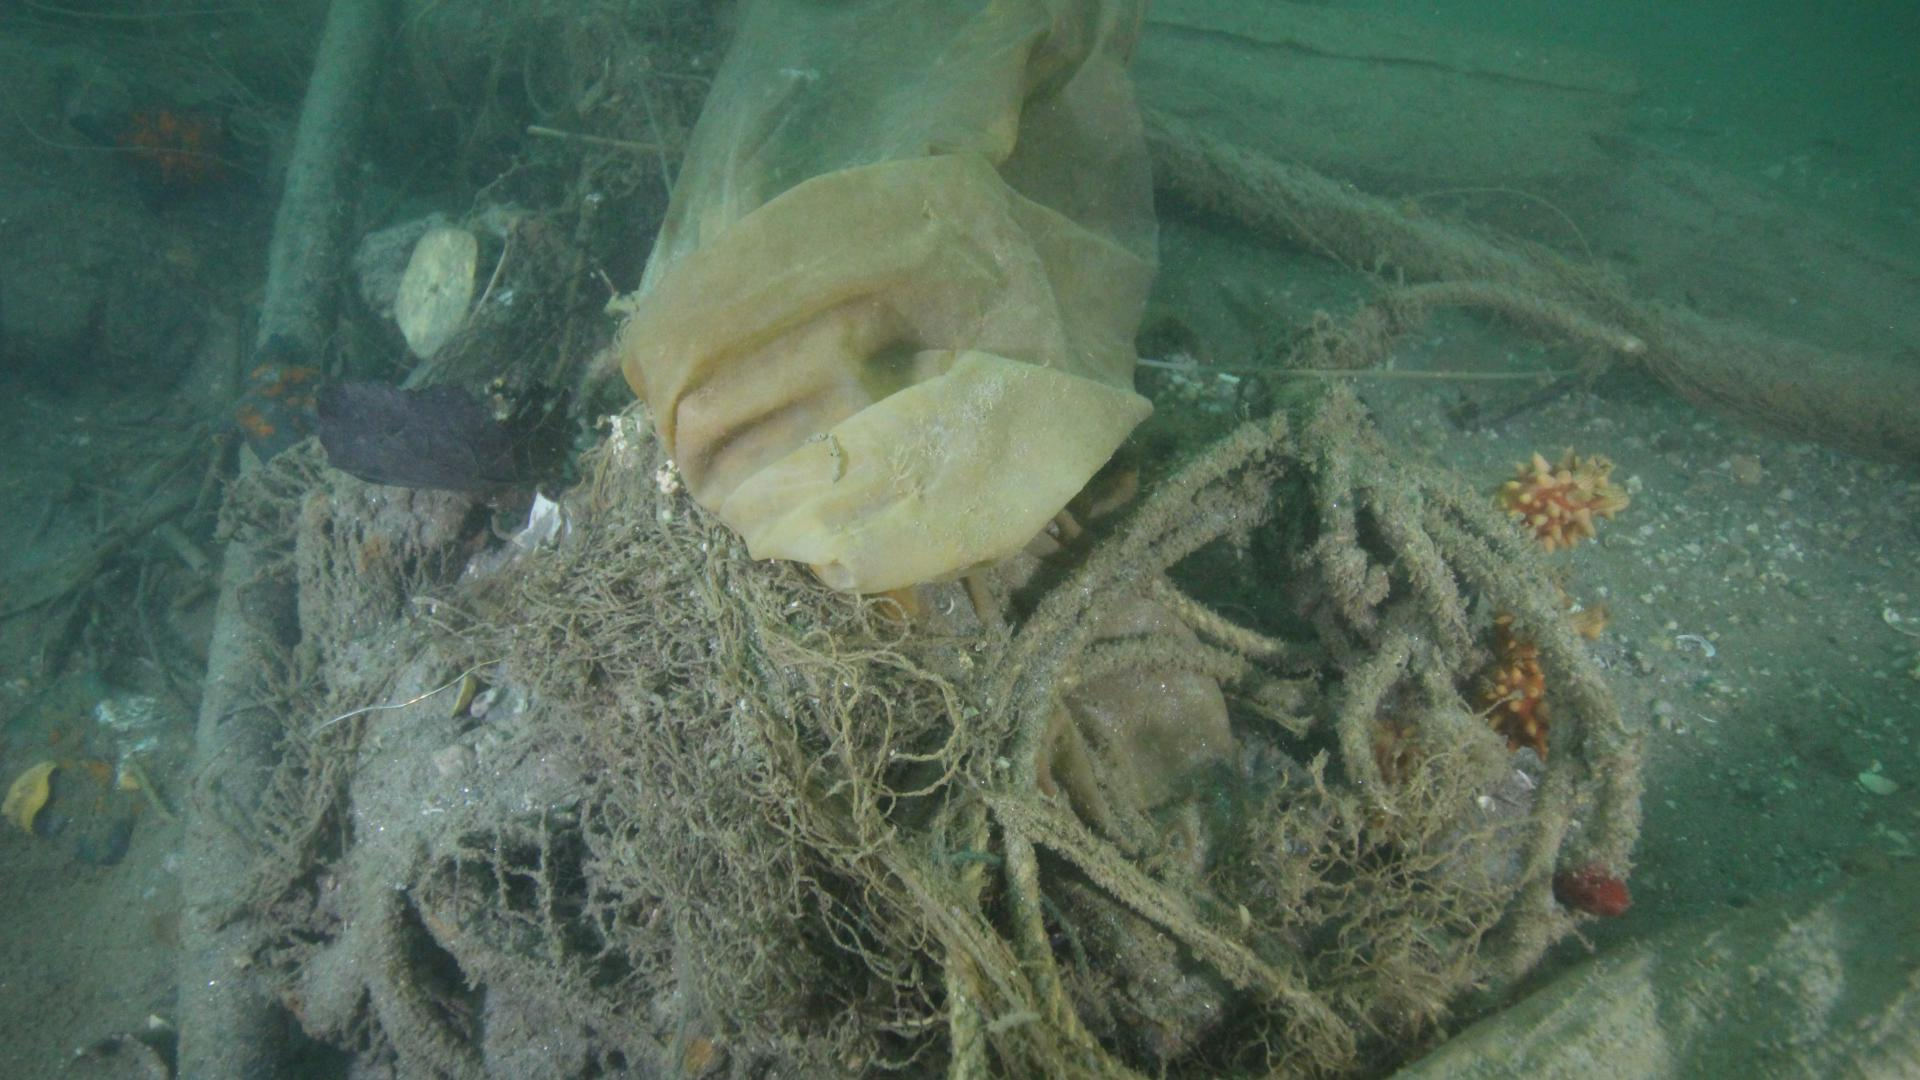bundle of ropes: (947, 280, 1648, 1080)
